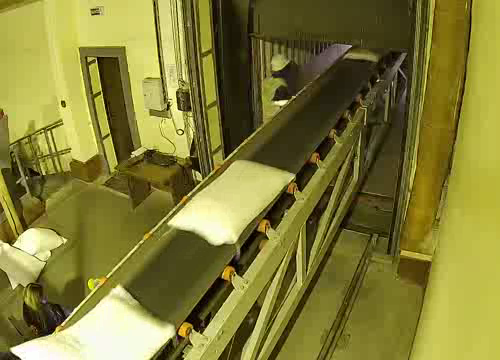bag: (8, 279, 195, 360), (158, 159, 299, 253), (339, 43, 395, 62)
